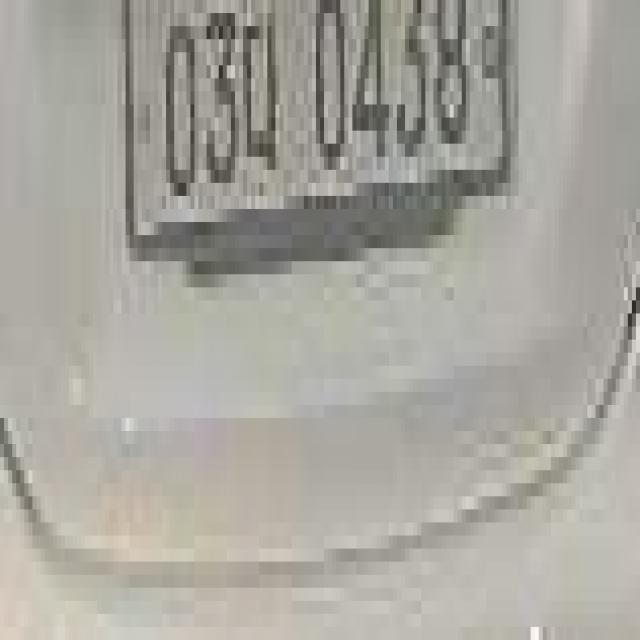illegal_plate: (116, 2, 519, 248)
